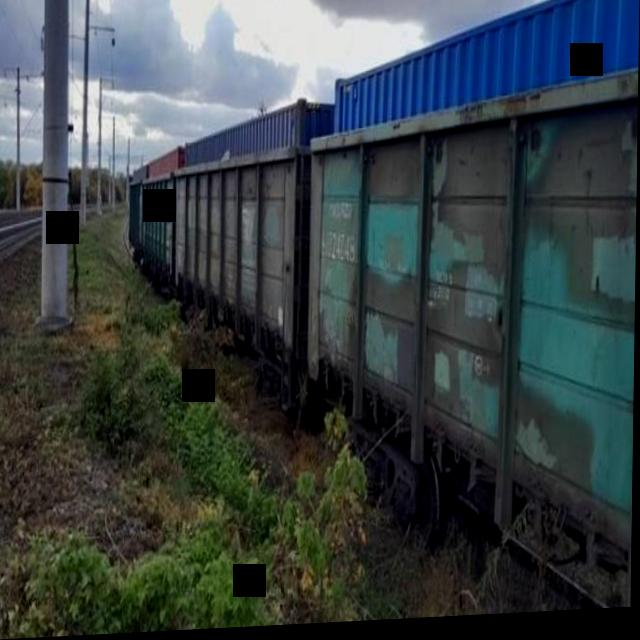container: (331, 0, 640, 150), (184, 96, 334, 170)
gondola: (299, 58, 639, 628), (173, 142, 306, 416)
